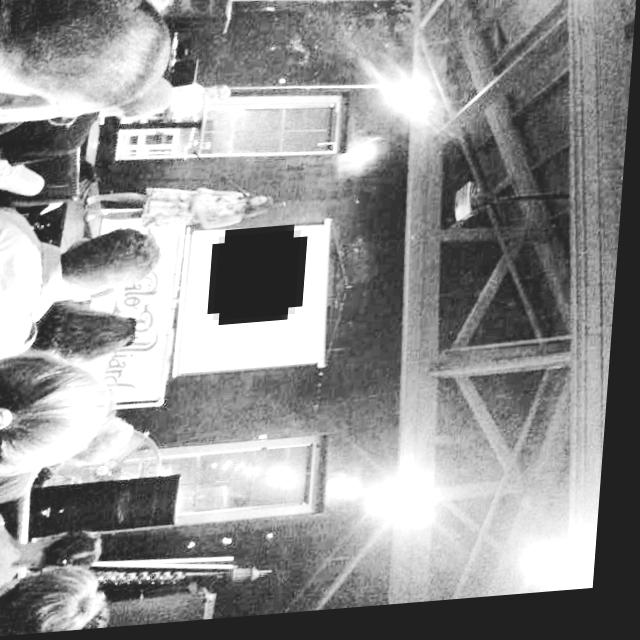qr_code: (217, 236, 304, 325)
